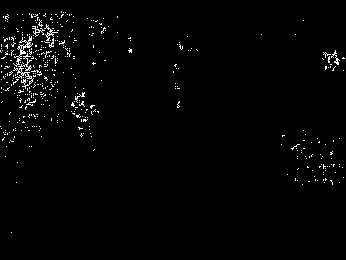person: (69, 91, 97, 145)
